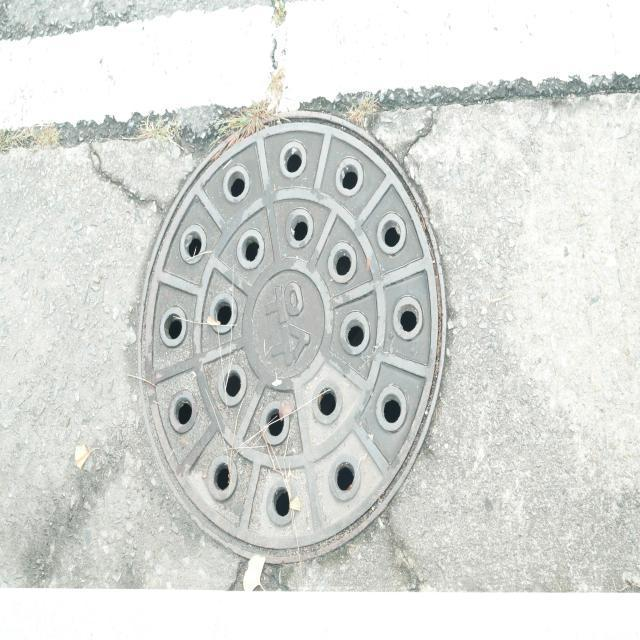manhole: (139, 112, 445, 562)
